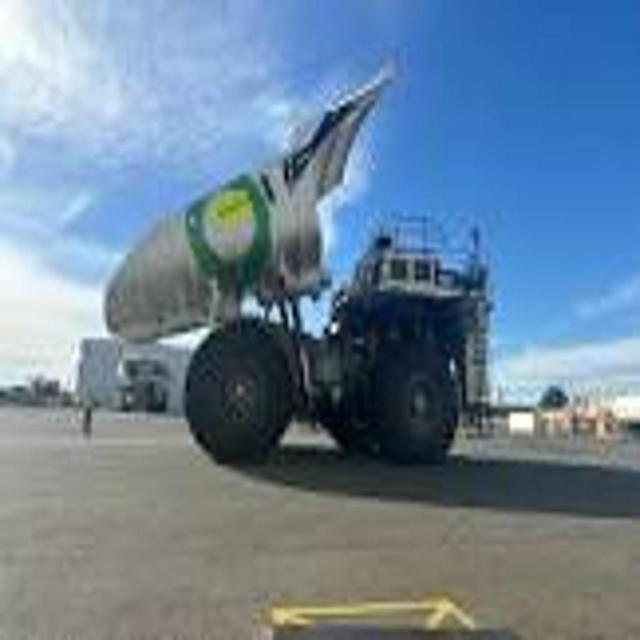dump_truck: (96, 77, 503, 471)
